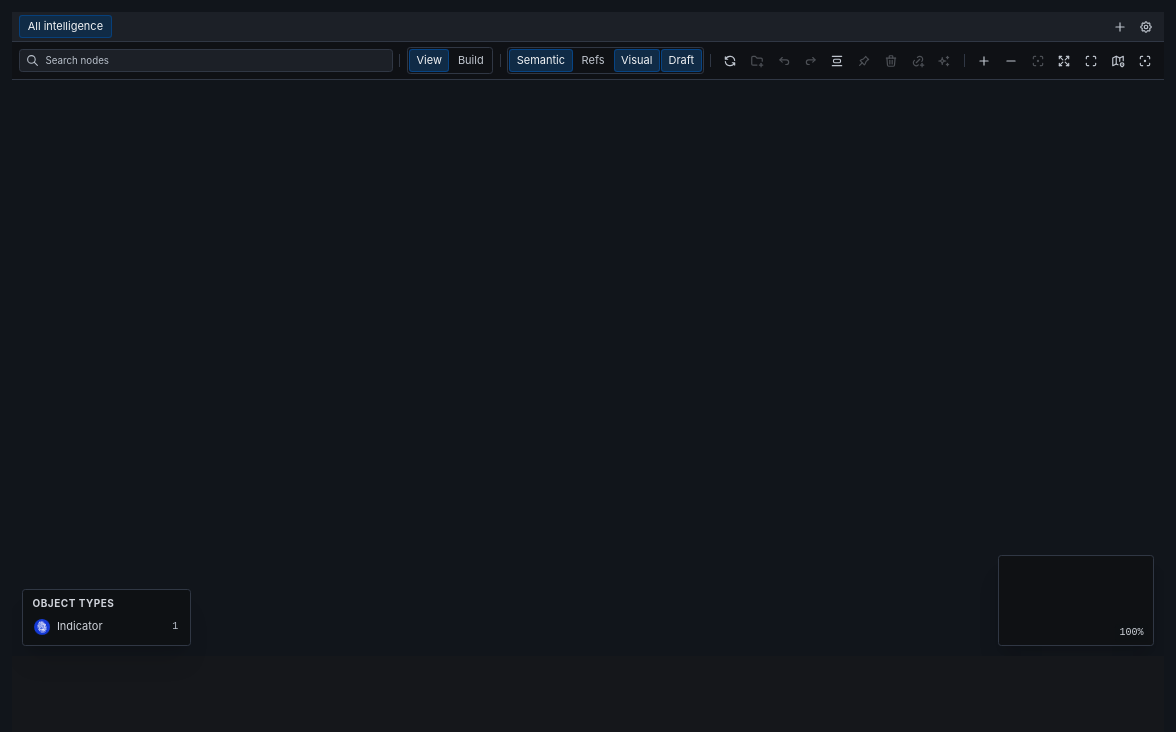
Test: GraphWorkspace › exposes full node names through the searchable keyboard navigator
Type "Evil Bunny" into the field named "Search graph" at (215, 60), box left=46, top=54, right=385, bottom=67
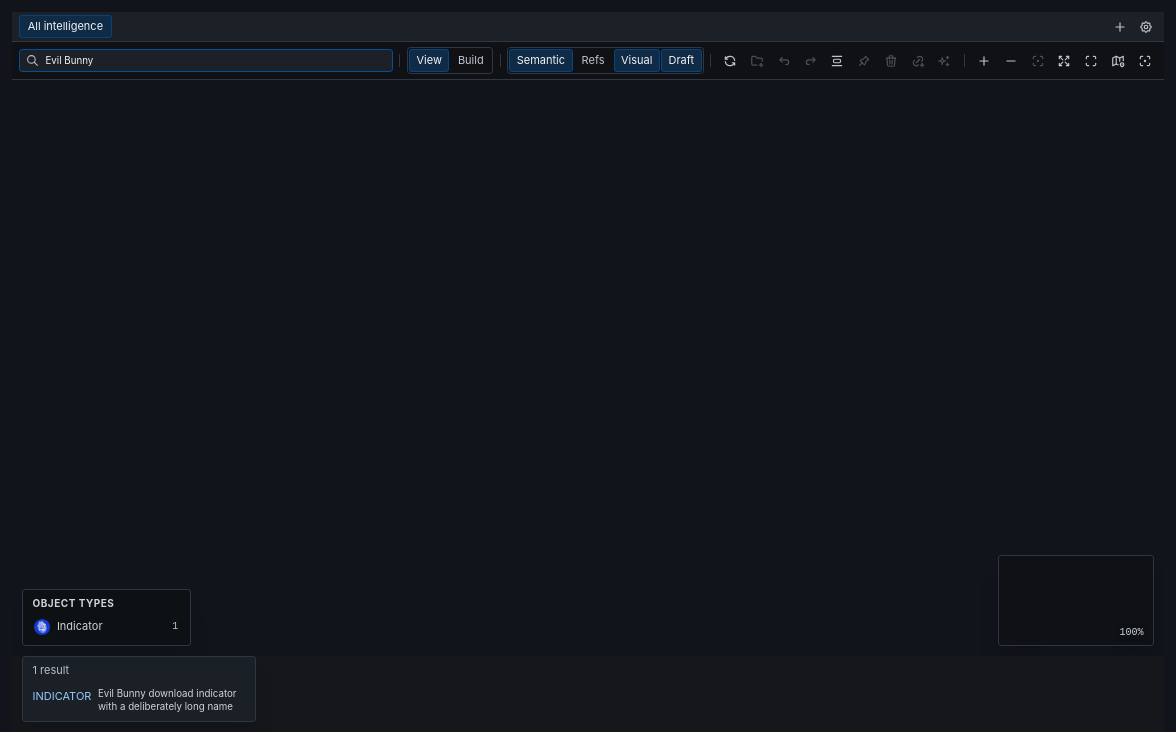
Expected: the button named "Focus Evil Bunny download indicator with a deliberately long name" is shown, left=26, top=682, right=252, bottom=718
Expected: the text "1 result" is shown, left=32, top=663, right=69, bottom=677
